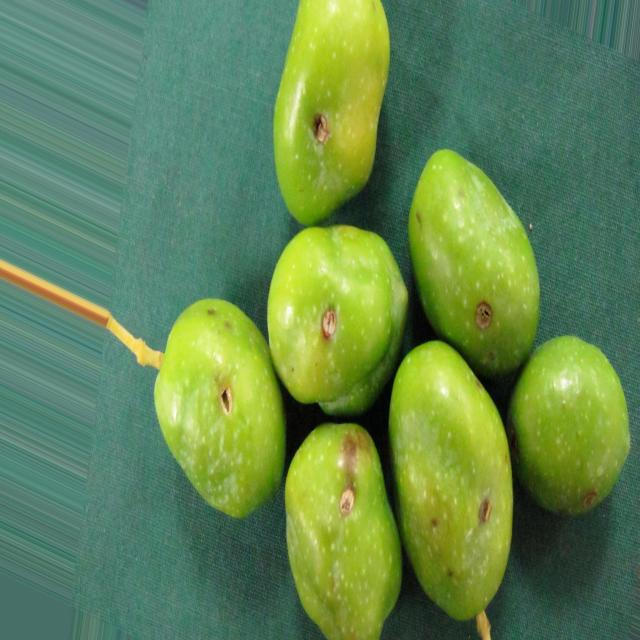Olive Fruit Fly: (389, 341, 513, 621), (408, 150, 540, 378), (154, 299, 286, 518), (268, 225, 408, 415), (274, 0, 390, 226), (285, 424, 402, 640), (507, 336, 630, 515)
